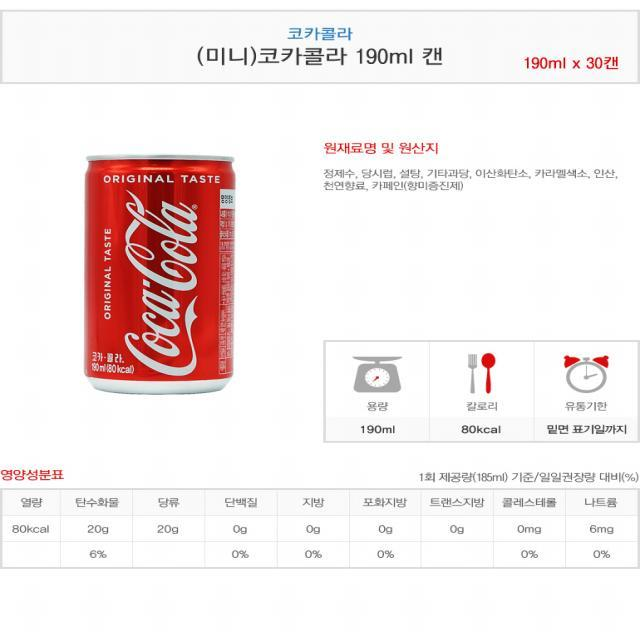coca-cola: (80, 150, 244, 402)
